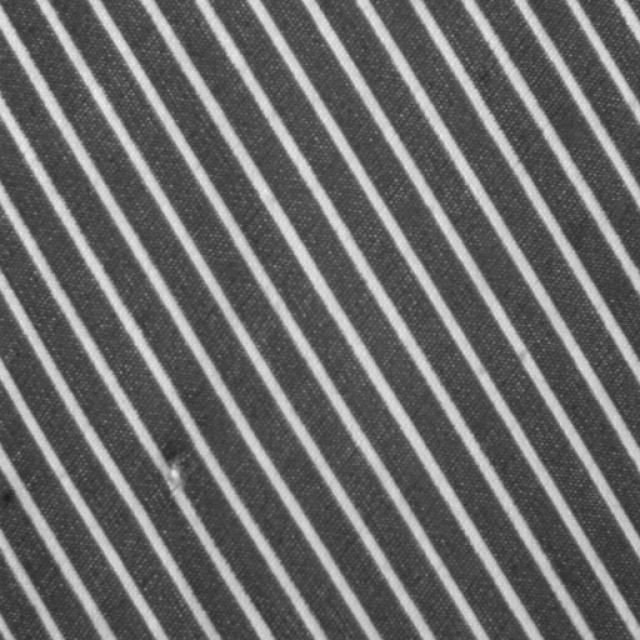Hole-Defect: (162, 446, 196, 499)
